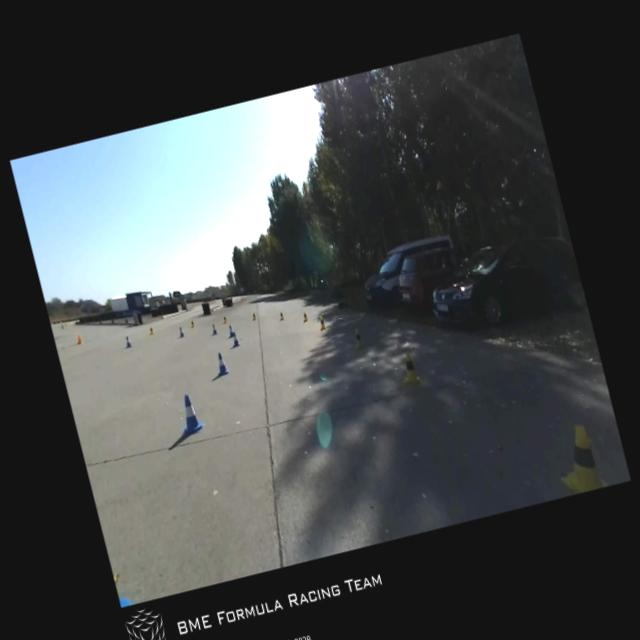blue_cone: (173, 391, 205, 436), (212, 351, 228, 376), (230, 330, 240, 347), (122, 335, 132, 348), (226, 323, 234, 338), (210, 324, 218, 335), (177, 326, 184, 337)
yellow_cone: (549, 421, 610, 496), (397, 349, 422, 388), (350, 328, 366, 350), (317, 314, 326, 330), (301, 312, 307, 322), (278, 311, 284, 320), (250, 312, 256, 320), (148, 327, 154, 335), (222, 316, 227, 324), (189, 320, 194, 328)
